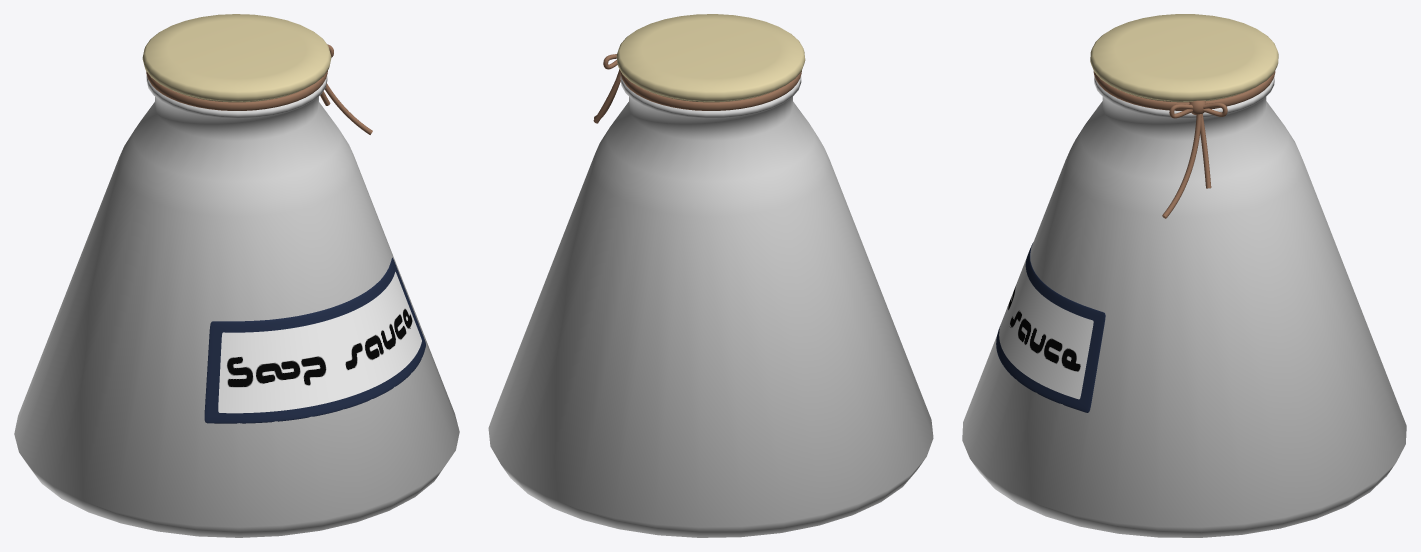
File: soy sauce.fbx
3 renders of one model, left to right at view 1: azimuth 30°, elevation 25°; view 2: azimuth 150°, elevation 25°; view 3: azimuth 270°, elevation 25°, orthographic.
Visible parts, largest first — view 1: soy sauce, label.004, Cylinder.005, rope.004; view 2: soy sauce, Cylinder.005, rope.004; view 3: soy sauce, Cylinder.005, label.004, rope.004.
Part boxes in pixels (left/top/right/bottom): soy sauce: left=14, top=75, right=459, bottom=537; label.004: left=204, top=257, right=425, bottom=423; Cylinder.005: left=142, top=14, right=331, bottom=102; rope.004: left=146, top=44, right=372, bottom=134; soy sauce: left=488, top=75, right=933, bottom=537; Cylinder.005: left=616, top=14, right=805, bottom=102; rope.004: left=593, top=54, right=801, bottom=123; soy sauce: left=962, top=76, right=1406, bottom=537; Cylinder.005: left=1090, top=14, right=1278, bottom=102; label.004: left=996, top=242, right=1105, bottom=412; rope.004: left=1093, top=71, right=1275, bottom=218.
Size of the model in its own units: 91.81 by 91.86 by 91.81.
